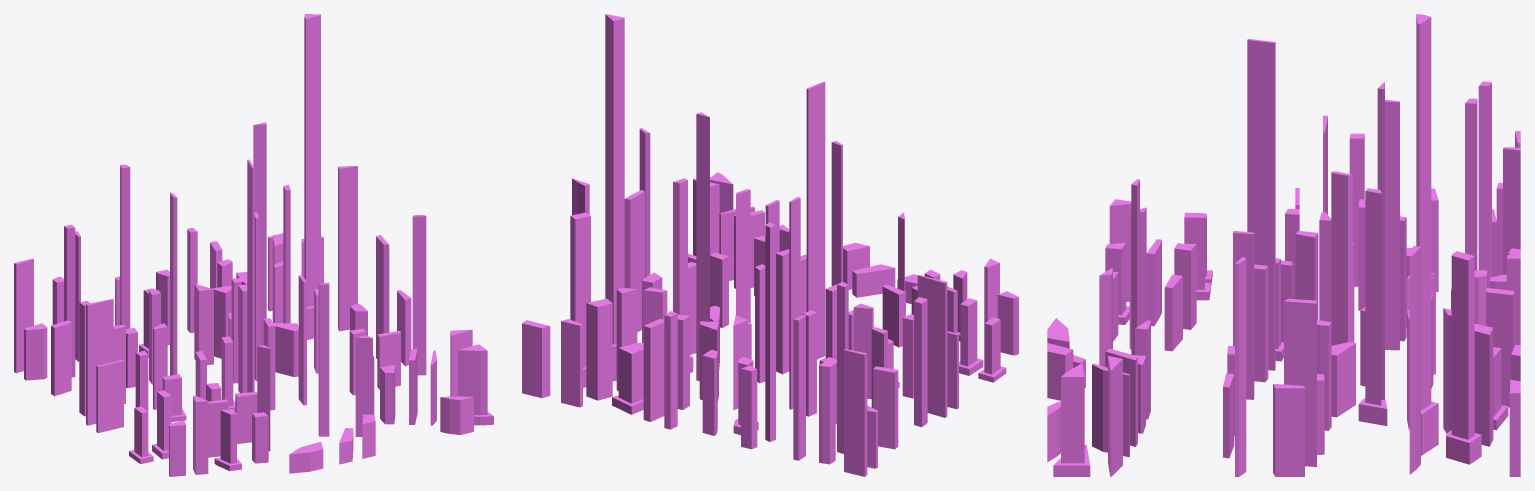
Rendered from buildings_00067.obj.
The picture shows the model from 3 angles, left to right: view 1: azimuth 30°, elevation 25°; view 2: azimuth 150°, elevation 25°; view 3: azimuth 270°, elevation 25°; orthographic projection. The views are drawn at different scales.
Size of the model in its own units: 1460 by 1458 by 1460.
